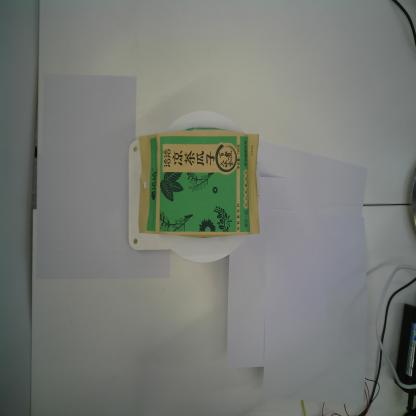Dried Food: (138, 126, 262, 239)
